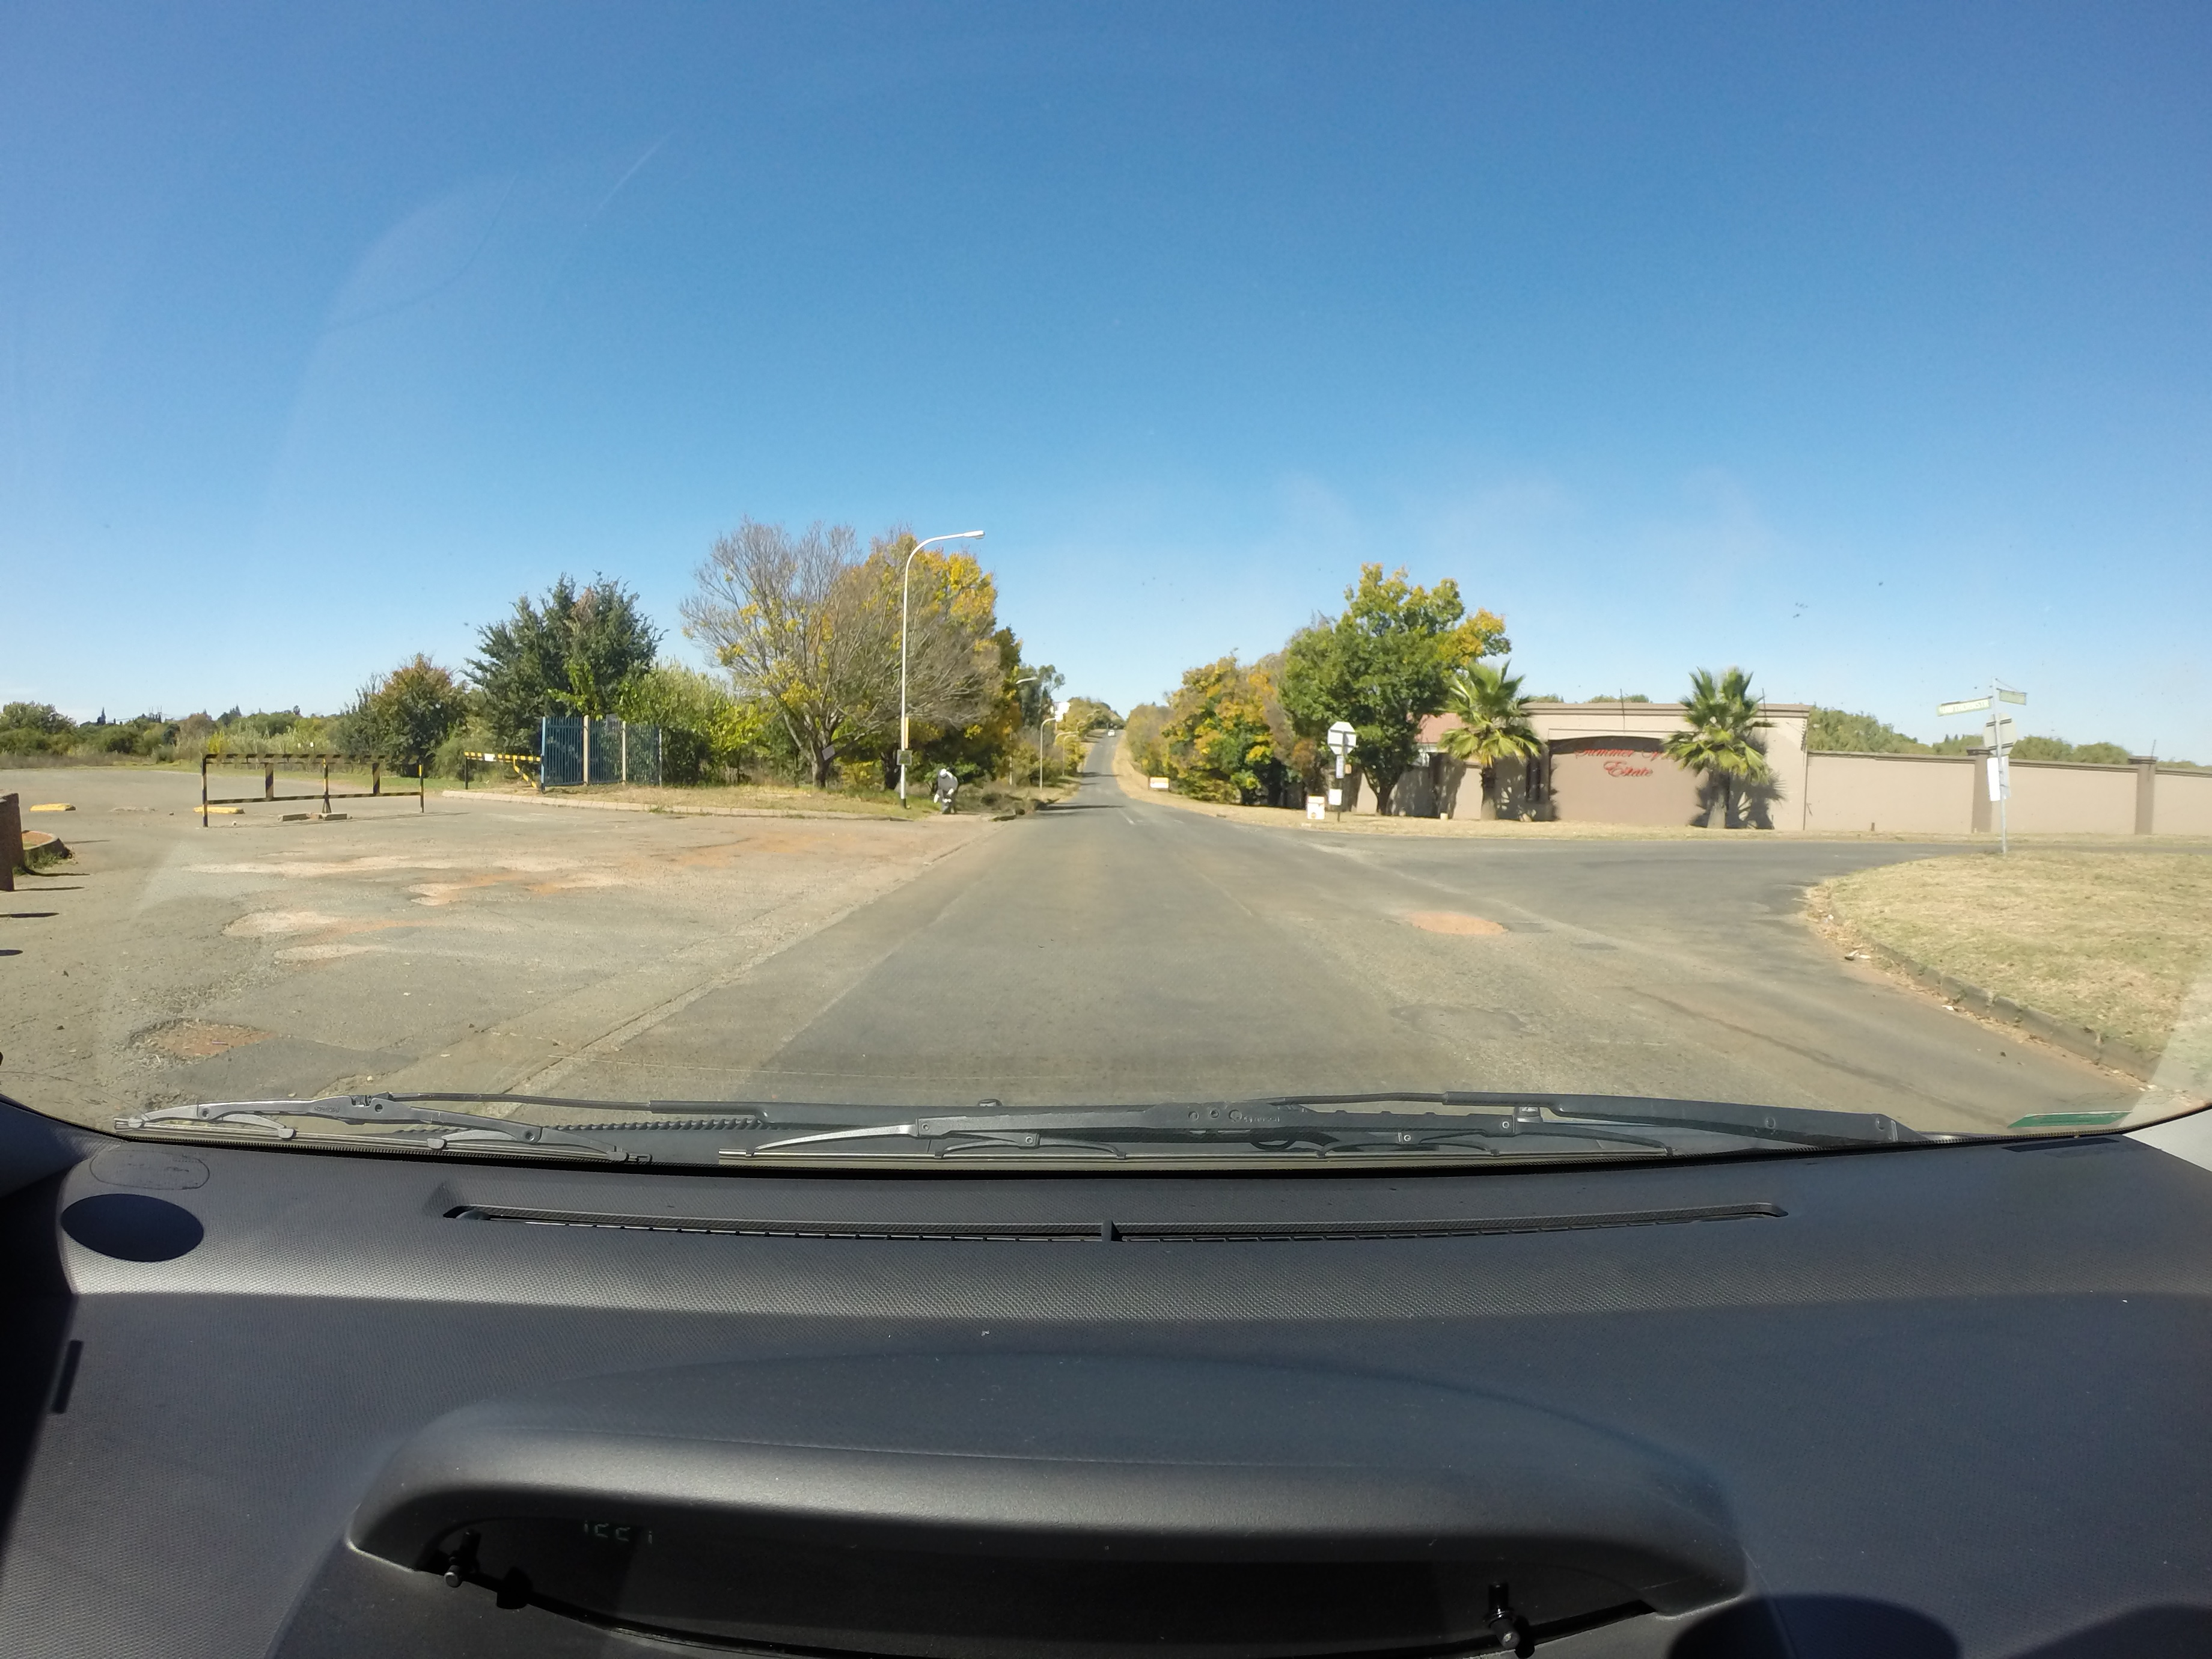pothole: (1404, 904, 1521, 941)
